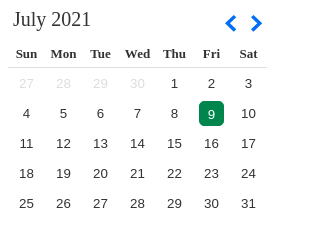
Scenario: Calendar tests › If it is not the current month then the current day is not highlighted
What coordinates should you click on to do the following:
click the button named "Next month"
I would click on:
 (259, 25)
Its box is [251,15,267,35].
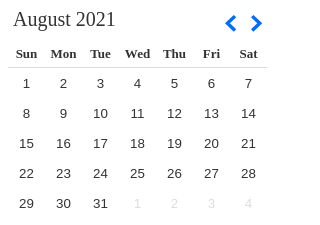
Expected: the cell with class "current-day" is gone
